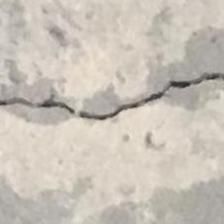Crack: (0, 60, 224, 126)
